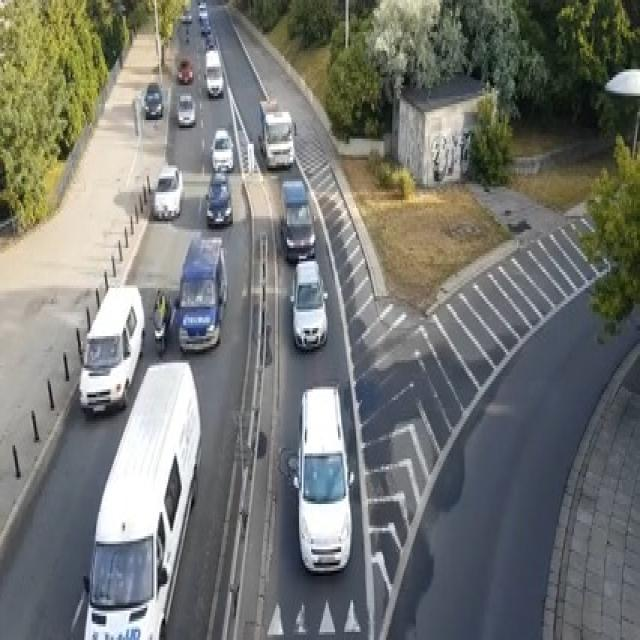bus: (81, 358, 201, 638)
car: (287, 384, 353, 573), (78, 283, 144, 416), (174, 232, 227, 352), (288, 259, 328, 349), (280, 179, 316, 261), (257, 99, 296, 168), (152, 162, 182, 218), (204, 170, 233, 227), (152, 288, 173, 355), (209, 128, 233, 171), (204, 48, 224, 96), (141, 83, 164, 117), (178, 94, 195, 125), (176, 58, 192, 82), (204, 34, 217, 50), (197, 0, 207, 19), (200, 18, 210, 34), (182, 8, 192, 21)
